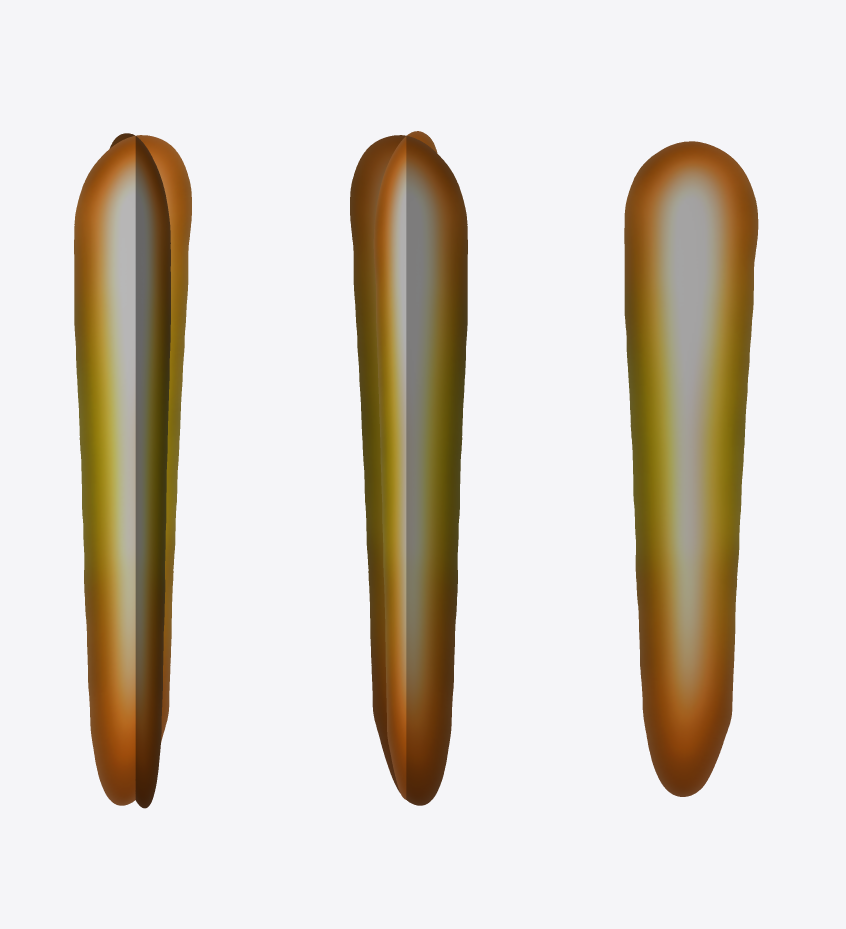
File: Explode_tankepaodan.FBX
3 views of the same model, side by side, from view 1: azimuth 30°, elevation 25°; view 2: azimuth 150°, elevation 25°; view 3: azimuth 270°, elevation 25° (orthographic).
Visible parts, largest first — view 1: Explode_tankepaodan; view 2: Explode_tankepaodan; view 3: Explode_tankepaodan.
Part boxes in pixels (x1,y1,x2,y2): Explode_tankepaodan: [74, 133, 191, 808]; Explode_tankepaodan: [350, 131, 467, 805]; Explode_tankepaodan: [624, 141, 758, 796].
Size of the model in its own units: 227 by 227 by 713.
Materials: 1 (1 with a texture image).
